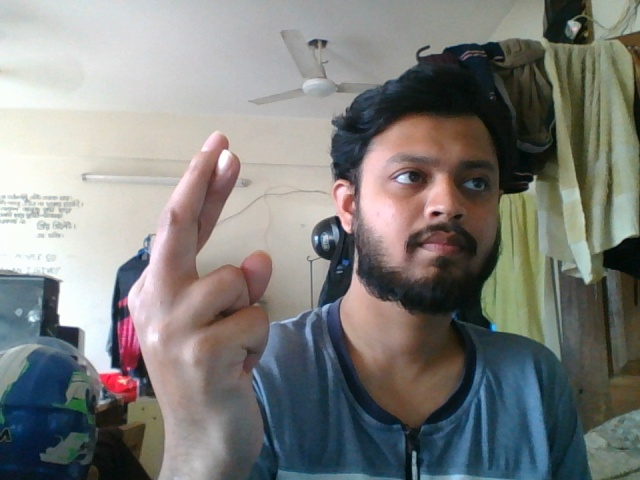r: (121, 128, 286, 469)
